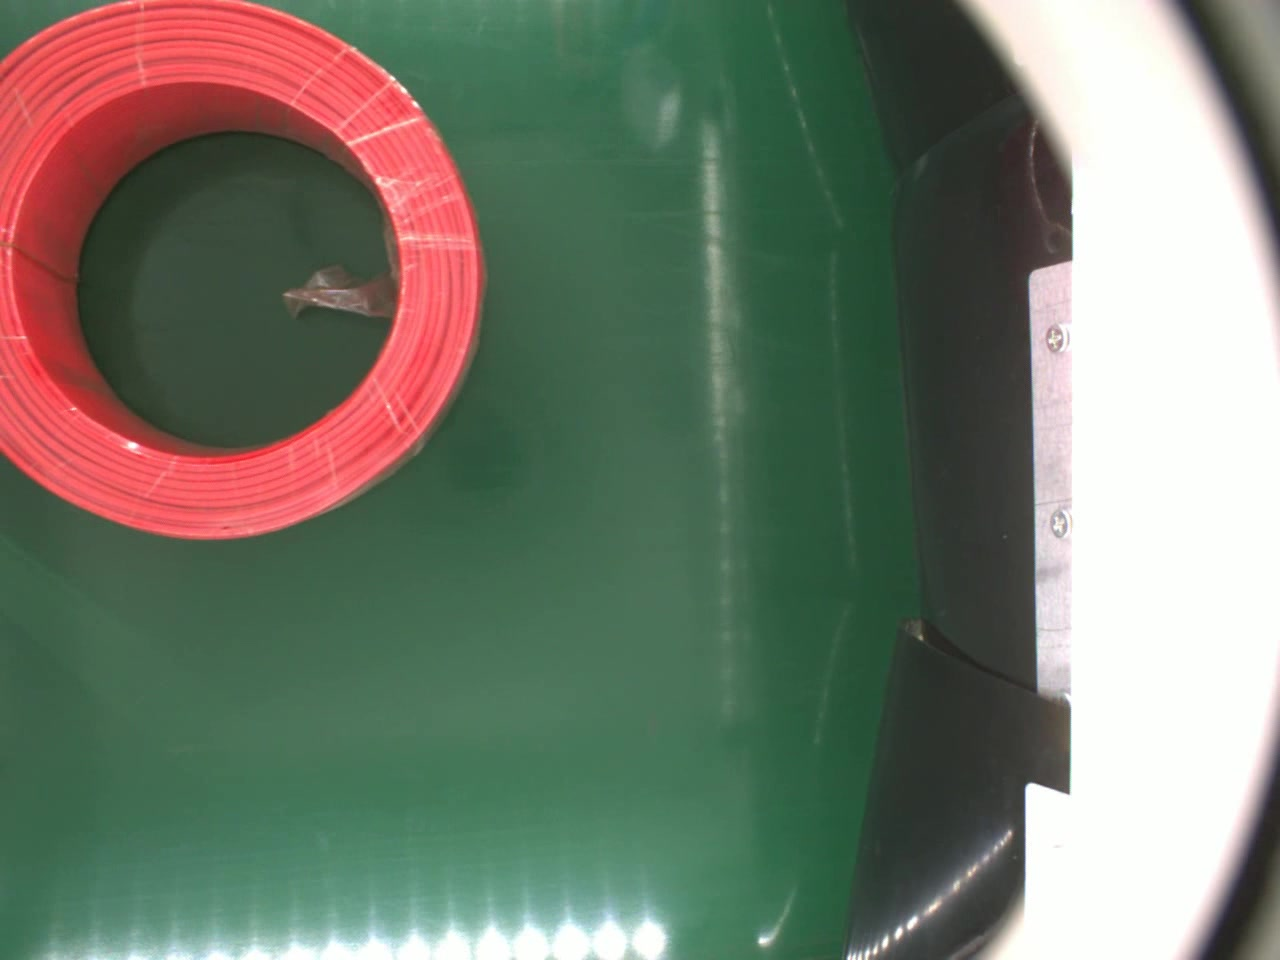red: (0, 1, 489, 543)
